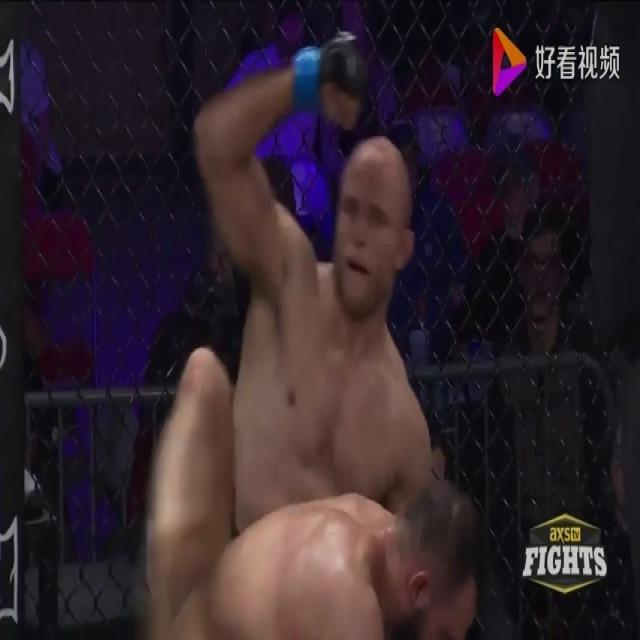fight: (118, 0, 490, 639)
